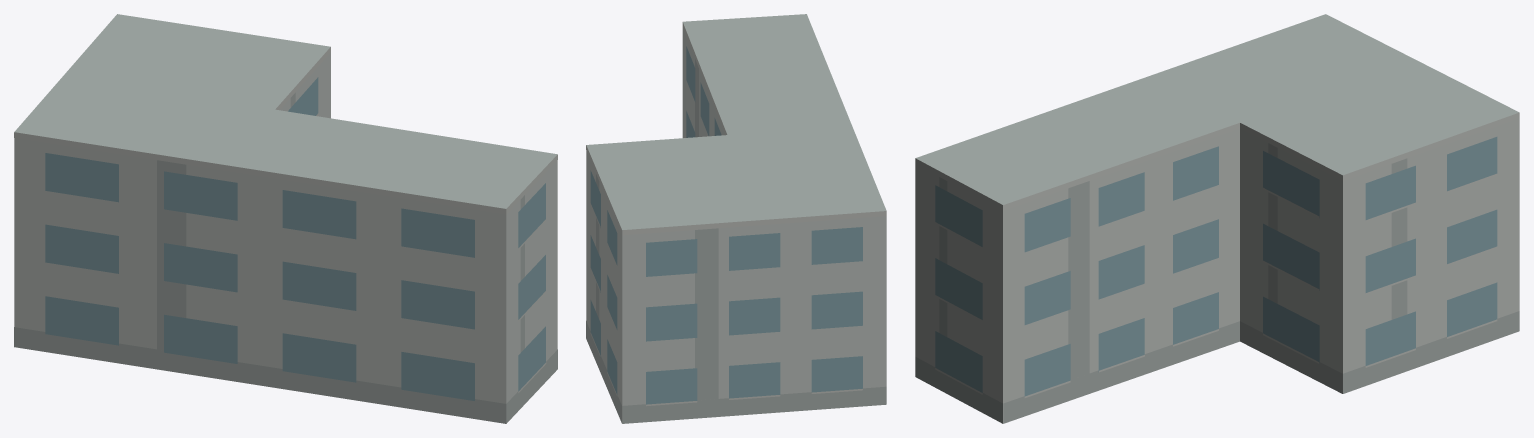
Rendered from residential-4ccd19a0-85a5-472d-bb29-16eb509cba02.glb.
3 renders of one model, left to right at view 1: azimuth 30°, elevation 25°; view 2: azimuth 150°, elevation 25°; view 3: azimuth 270°, elevation 25°, orthographic. The views are drawn at different scales.
Visible parts, largest first — view 1: residential-4ccd19a0-85a5-472d-bb29-16eb509cba02.tmp; view 2: residential-4ccd19a0-85a5-472d-bb29-16eb509cba02.tmp; view 3: residential-4ccd19a0-85a5-472d-bb29-16eb509cba02.tmp.
Part boxes in pixels (<box>): residential-4ccd19a0-85a5-472d-bb29-16eb509cba02.tmp: <box>14,14,557,423</box>; residential-4ccd19a0-85a5-472d-bb29-16eb509cba02.tmp: <box>586,14,886,423</box>; residential-4ccd19a0-85a5-472d-bb29-16eb509cba02.tmp: <box>915,14,1519,423</box>.
Size of the model in its own units: 17.16 by 9.15 by 22.92.
